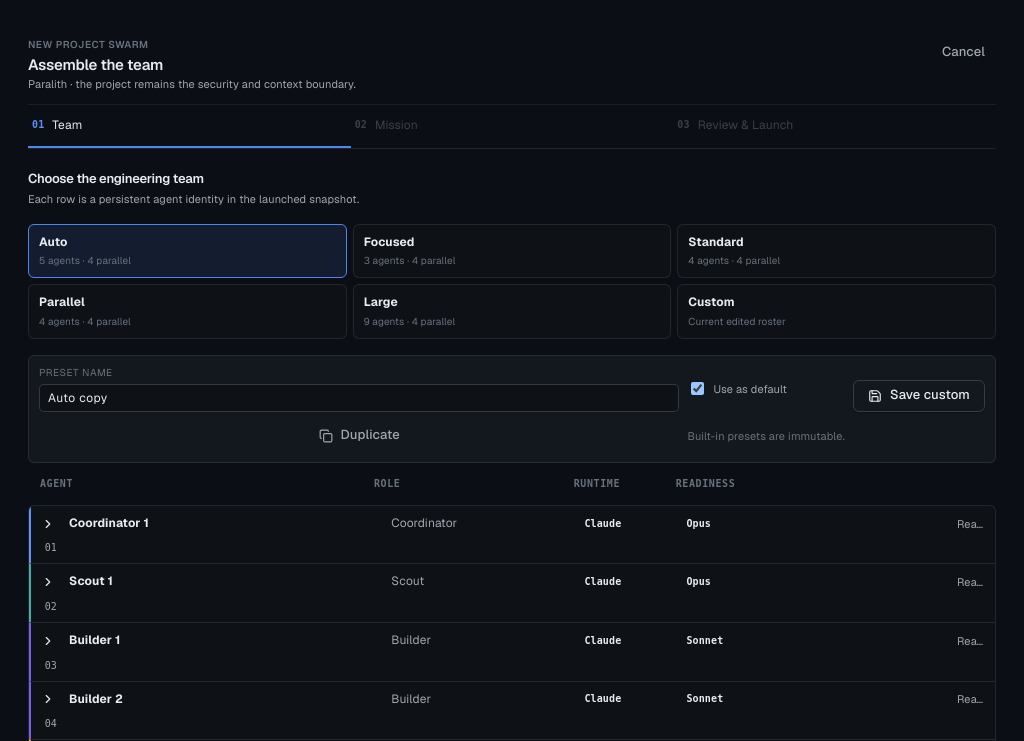
Swarm model identity contract › resolves a canonical model for every member of the Auto preset
This screenshot has width=1024, height=741.
Click the text "Auto": (53, 242) [39,234,68,250]
(page scrolled)
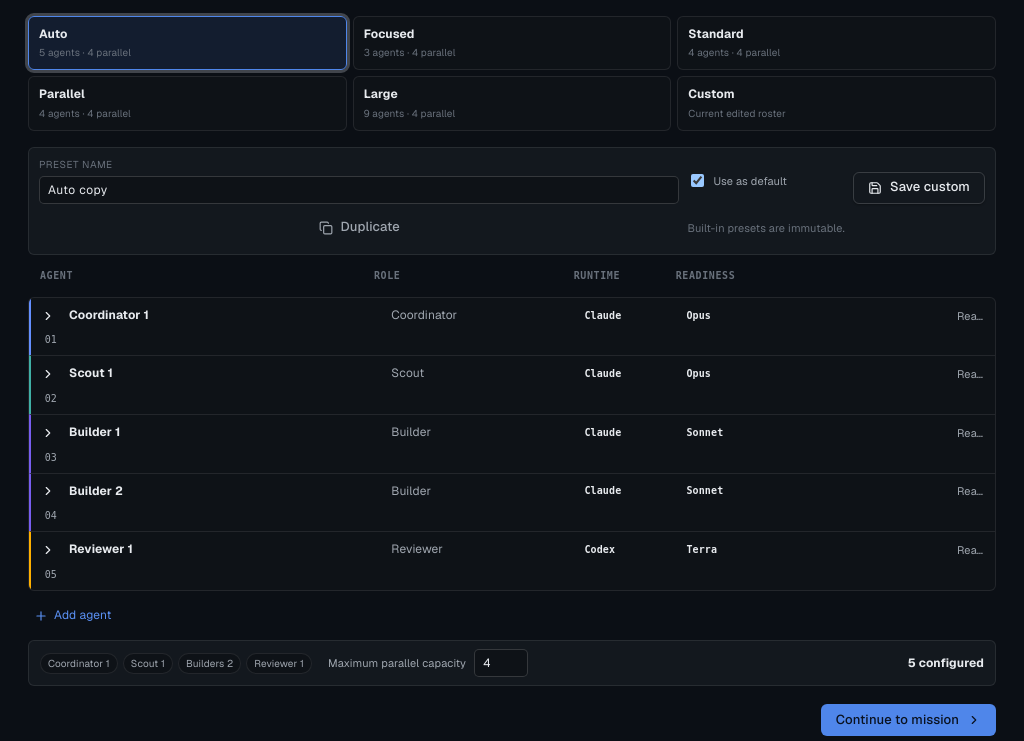
Click the button "Continue to mission": (908, 720) [821,704,996,736]
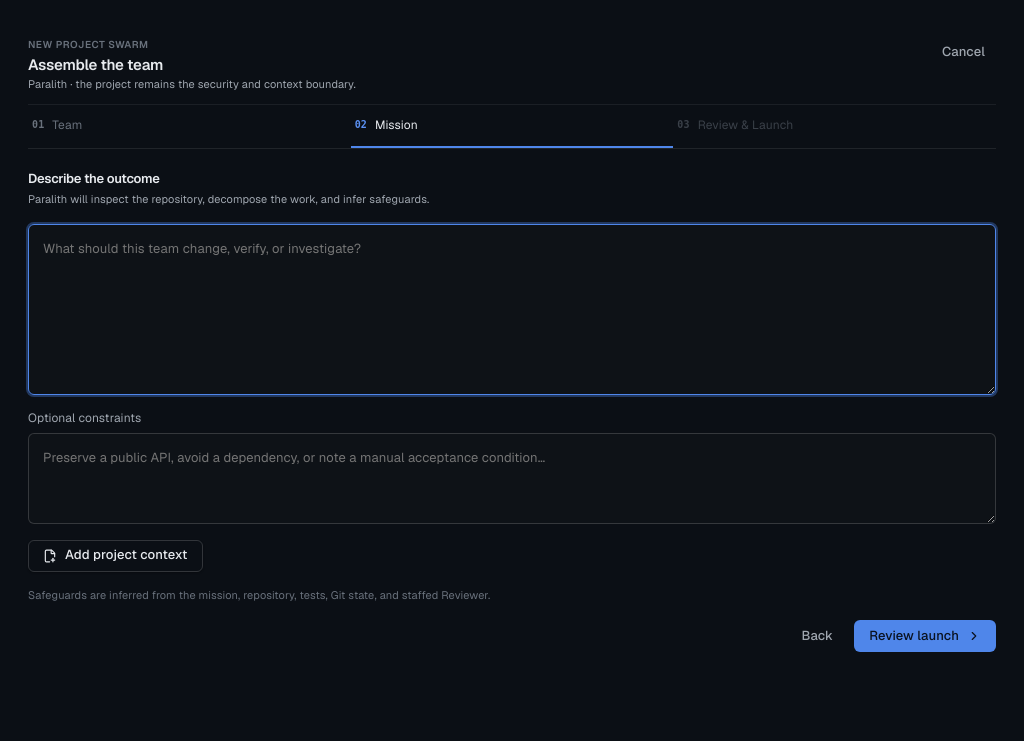
In the text box with placeholder "What should this team change, verify, or investigate?": (512, 309) [28,224,996,395], type "Repair the notification pipeline"
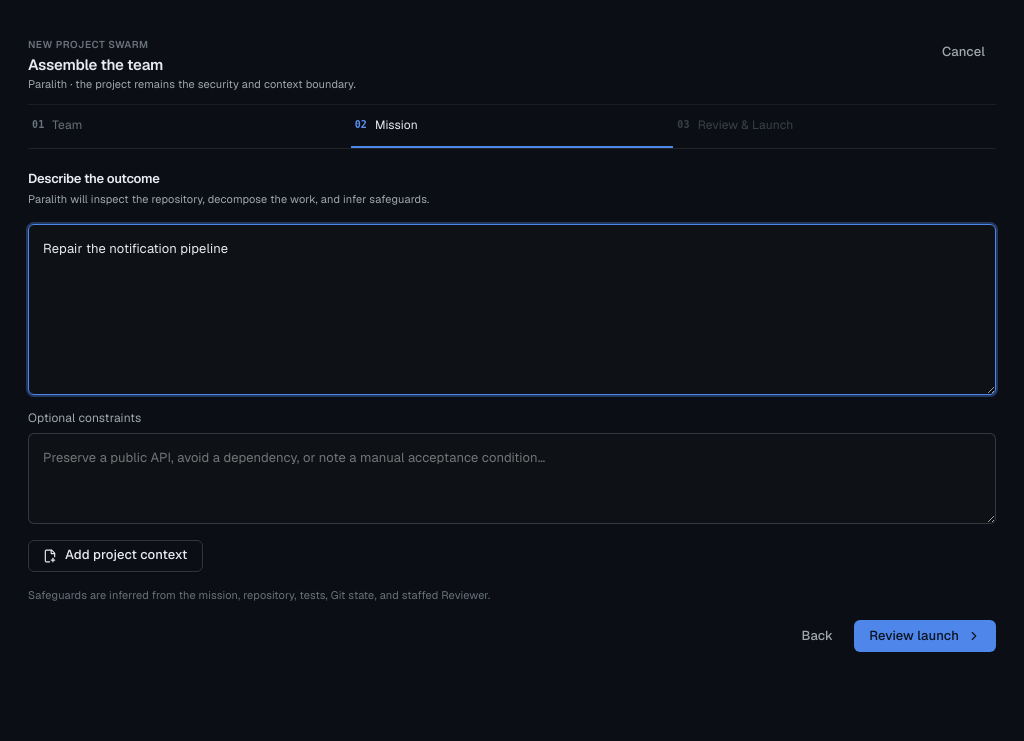
Click the button "Review launch": (925, 636) [854,620,996,652]
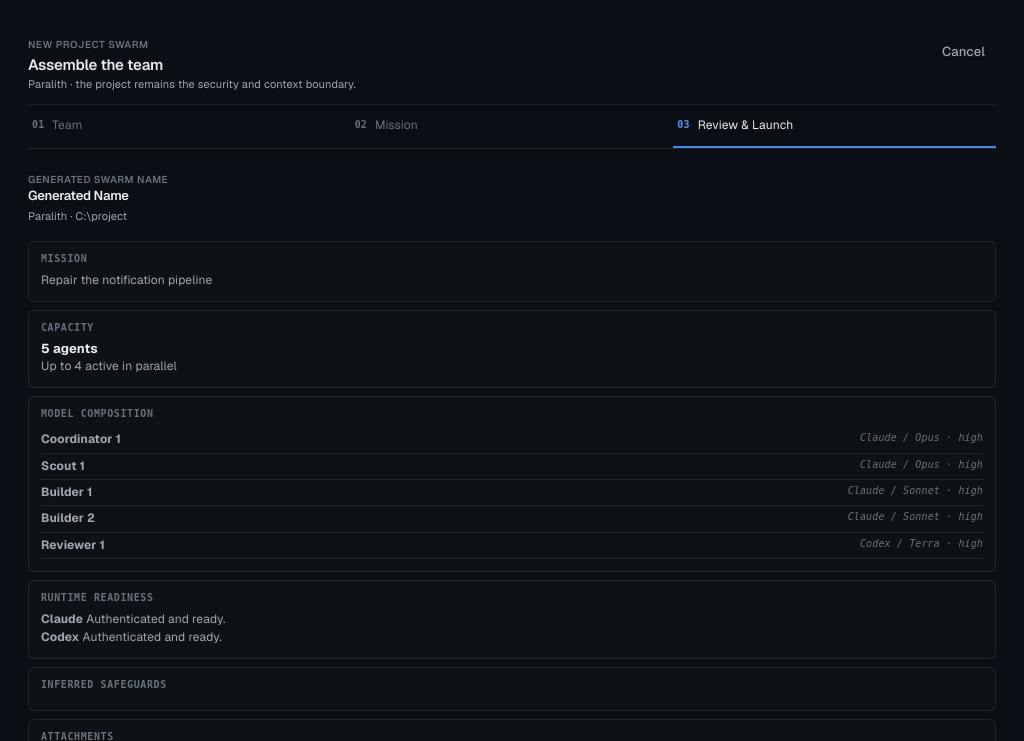
Check: the heading "Generated Name" is shown, box [28,187,129,204]
